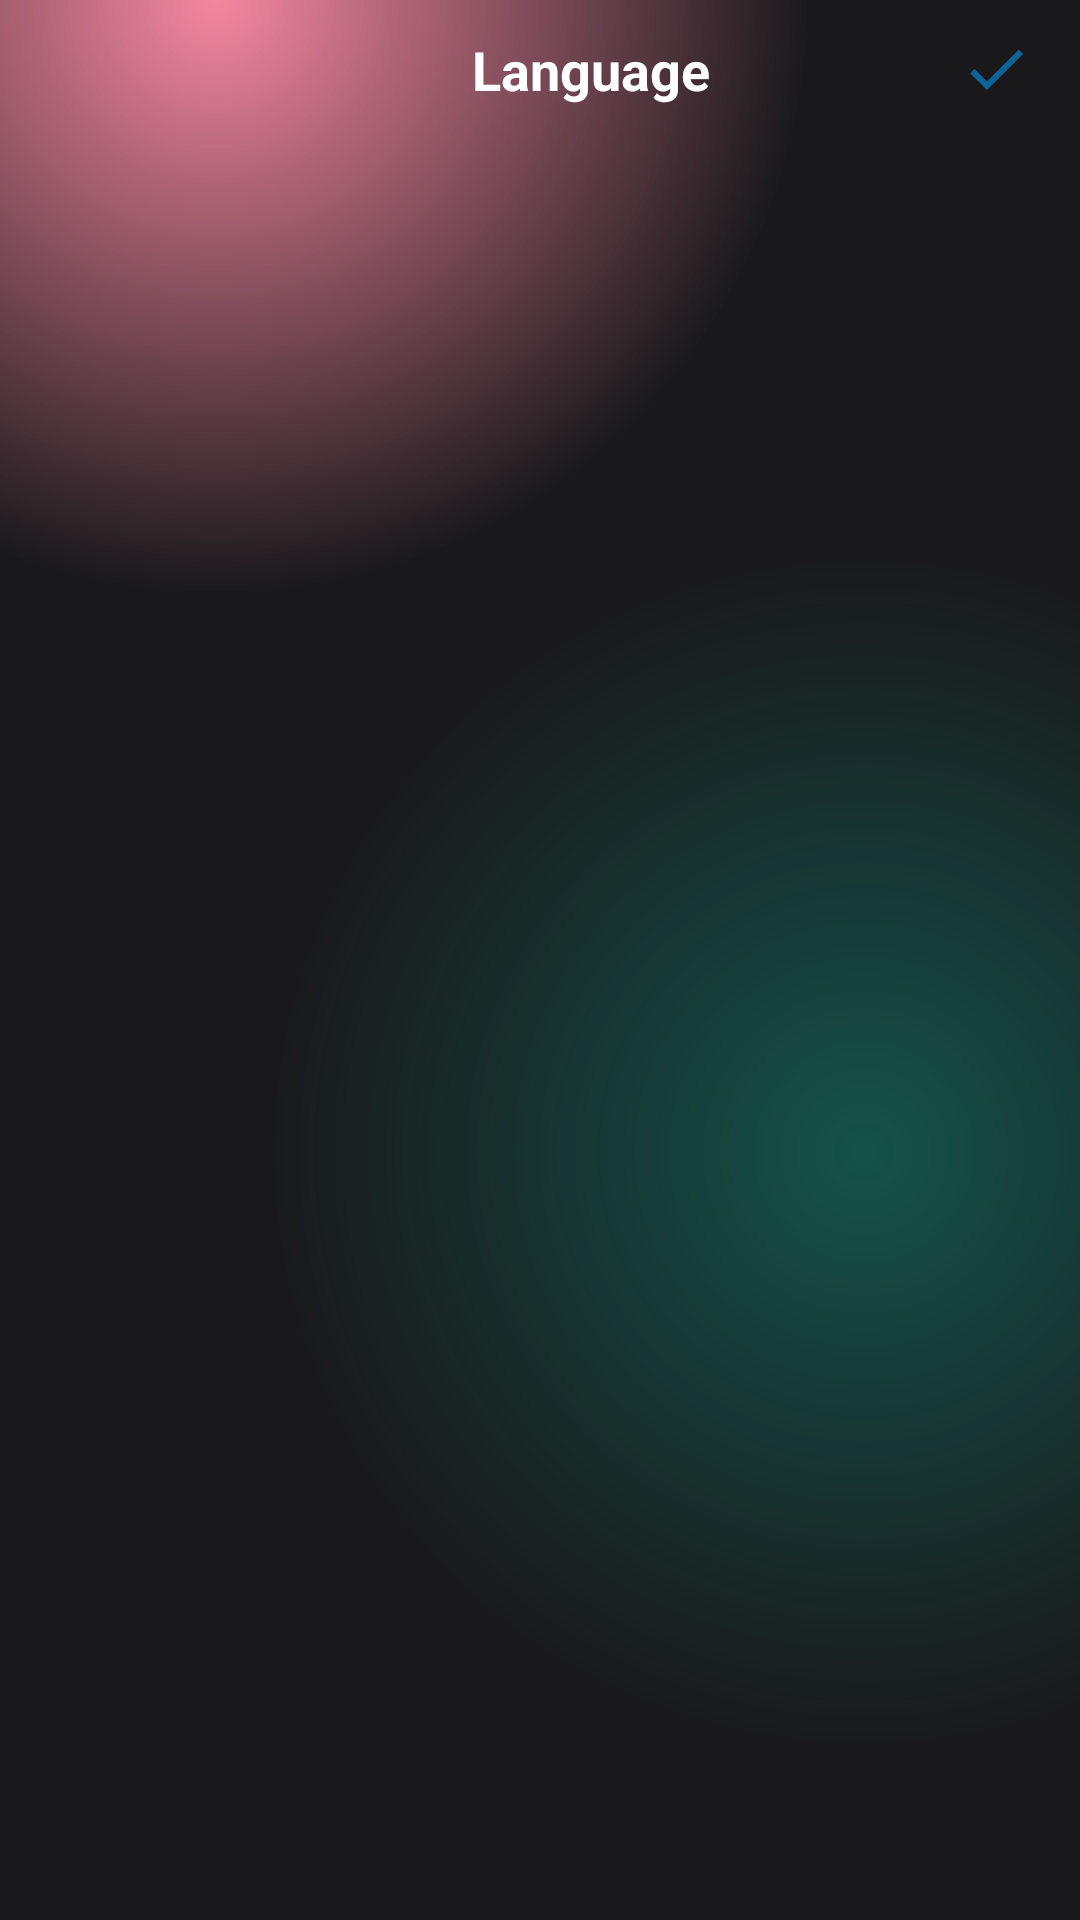

Locate icon controls on the screen. Image size 1080*1920, boxes as (x1, y1, x2, y2).
tick: (970, 50, 1023, 90)
